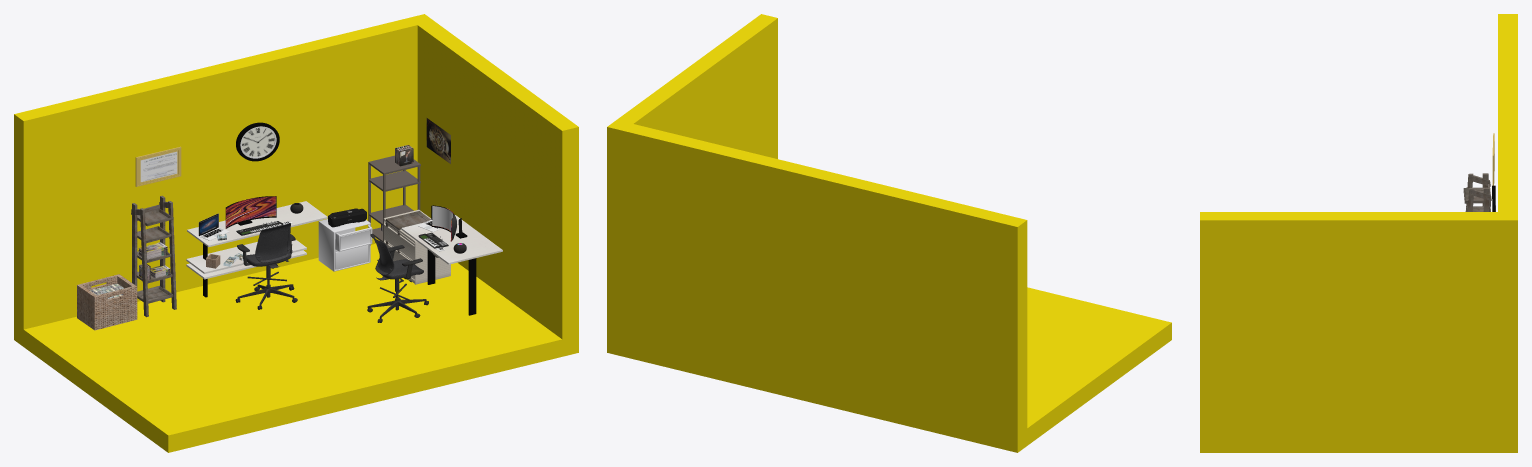
The model's file is room-3.glb.
The picture shows the model from 3 angles, left to right: view 1: azimuth 30°, elevation 25°; view 2: azimuth 150°, elevation 25°; view 3: azimuth 270°, elevation 25°; orthographic projection. The views are drawn at different scales.
Parts seen in each view (by area): view 1: Cube.020, Cube.019, Cube.021, Layer0_002, Object079, Box090, Box104, Box014, Box002, mayer y85_001, Object102.003, Object096.004 (+8 smaller); view 2: Cube.020, Cube.019, Cube.021; view 3: Cube.021, Cube.020, Cube.019.
Part boxes in pixels (left/top/right/bottom): Cube.020: left=14, top=14, right=433, bottom=329; Cube.019: left=14, top=243, right=578, bottom=452; Cube.021: left=417, top=21, right=578, bottom=339; Layer0_002: left=77, top=274, right=137, bottom=330; Object079: left=368, top=145, right=420, bottom=245; Box090: left=318, top=219, right=372, bottom=271; Box104: left=401, top=215, right=502, bottom=264; Box014: left=383, top=209, right=450, bottom=284; Box002: left=187, top=201, right=327, bottom=247; mayer y85_001: left=242, top=223, right=291, bottom=268; Object102.003: left=236, top=122, right=279, bottom=161; Object096.004: left=225, top=196, right=276, bottom=228; Cube.020: left=607, top=120, right=1027, bottom=435; Cube.019: left=607, top=287, right=1171, bottom=452; Cube.021: left=617, top=14, right=777, bottom=158; Cube.021: left=1200, top=212, right=1497, bottom=434; Cube.020: left=1498, top=14, right=1517, bottom=434; Cube.019: left=1200, top=435, right=1517, bottom=452.
Size of the model in its own units: 19.4 by 10.2 by 12.62.
50 materials, 30 textured.
